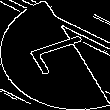L_NE: (15, 30, 95, 80)
